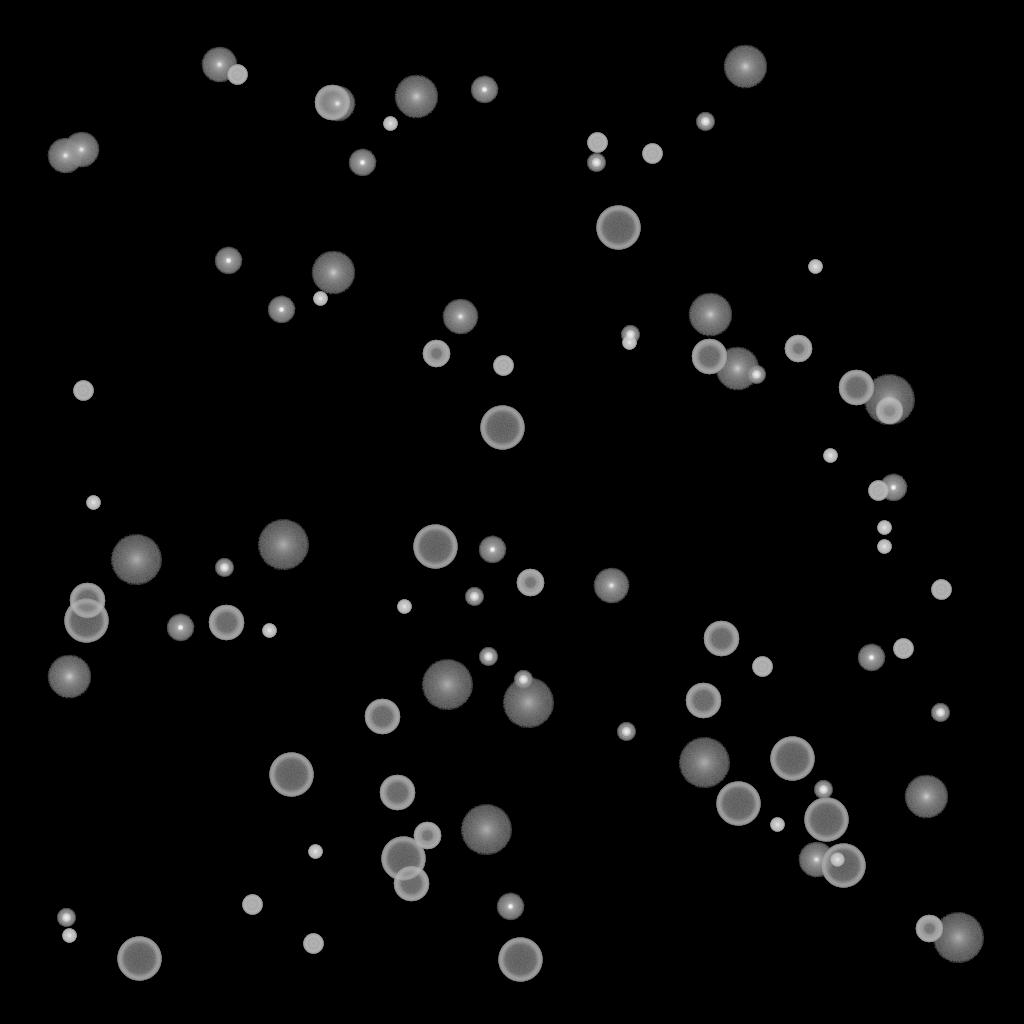depth:-10: (478, 536, 506, 564), (496, 893, 524, 921), (470, 76, 498, 104), (166, 614, 194, 642), (879, 474, 907, 502), (214, 247, 242, 275), (267, 296, 295, 324), (348, 149, 376, 177), (857, 644, 885, 672)
depth:-20: (465, 588, 483, 606), (931, 704, 949, 722), (621, 326, 639, 344), (747, 366, 765, 384), (514, 671, 532, 689), (814, 781, 832, 799), (57, 909, 75, 927), (479, 648, 497, 666), (215, 559, 233, 577), (587, 154, 605, 172), (617, 723, 635, 741), (696, 113, 714, 131)
depth:-30: (808, 260, 822, 274), (86, 496, 100, 510), (62, 929, 76, 943), (622, 336, 636, 350), (262, 624, 276, 638), (830, 853, 844, 867), (383, 117, 397, 131), (823, 449, 837, 463), (397, 600, 411, 614), (770, 818, 784, 832), (877, 540, 891, 554), (308, 845, 322, 859), (877, 521, 891, 535), (313, 292, 327, 306)
depth:-40: (242, 895, 262, 915), (227, 65, 247, 85), (493, 356, 513, 376), (73, 381, 93, 401), (752, 657, 772, 677), (642, 144, 662, 164), (893, 639, 913, 659), (587, 133, 607, 153), (303, 934, 323, 954), (868, 481, 888, 501), (931, 580, 951, 600)
depth:-50: (413, 822, 441, 850), (875, 397, 903, 425), (422, 340, 450, 368), (516, 569, 544, 597), (784, 335, 812, 363), (915, 915, 943, 943)
depth:-60: (364, 699, 400, 735), (691, 339, 727, 375), (393, 866, 429, 902), (69, 583, 105, 619), (379, 775, 415, 811), (208, 605, 244, 641), (703, 621, 739, 657), (314, 85, 350, 121), (838, 370, 874, 406), (685, 683, 721, 719)
depth:-70: (64, 599, 108, 643), (413, 525, 457, 569), (821, 844, 865, 888), (480, 406, 524, 450), (117, 937, 161, 981), (381, 837, 425, 881), (596, 206, 640, 250), (804, 798, 848, 842), (498, 938, 542, 982), (269, 753, 313, 797), (770, 737, 814, 781), (716, 782, 760, 826)
depth:0: (63, 132, 99, 168), (201, 47, 237, 83), (47, 138, 83, 174), (593, 568, 629, 604), (798, 842, 834, 878), (319, 86, 355, 122), (442, 299, 478, 335)
depth:10: (47, 655, 91, 699), (723, 45, 767, 89), (904, 775, 948, 819), (394, 75, 438, 119), (715, 347, 759, 391), (688, 293, 732, 337), (311, 251, 355, 295)
depth:20: (257, 520, 309, 570), (110, 535, 162, 585), (502, 678, 554, 728), (460, 805, 512, 855), (678, 738, 730, 788), (863, 375, 915, 425), (932, 913, 984, 963), (421, 660, 473, 710)
